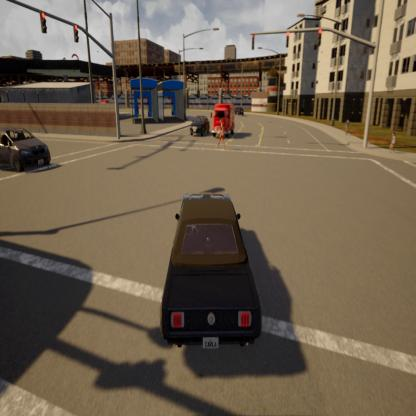Cars: (159, 189, 262, 362), (0, 126, 52, 176), (190, 115, 210, 137)
Pedestrian: (217, 116, 227, 150)
